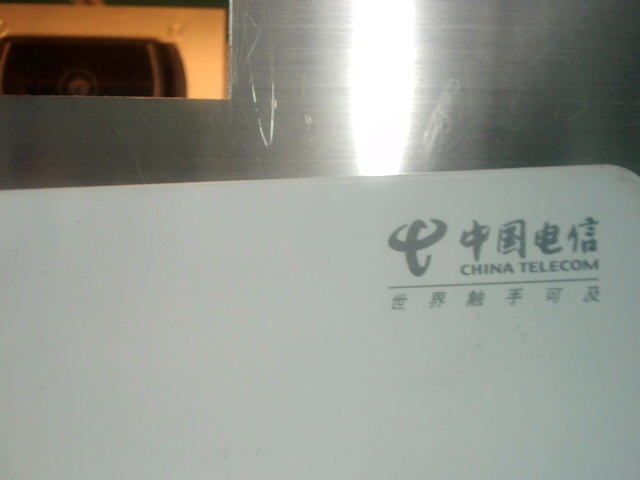AB_ChinaTelecom: (372, 205, 614, 312)
